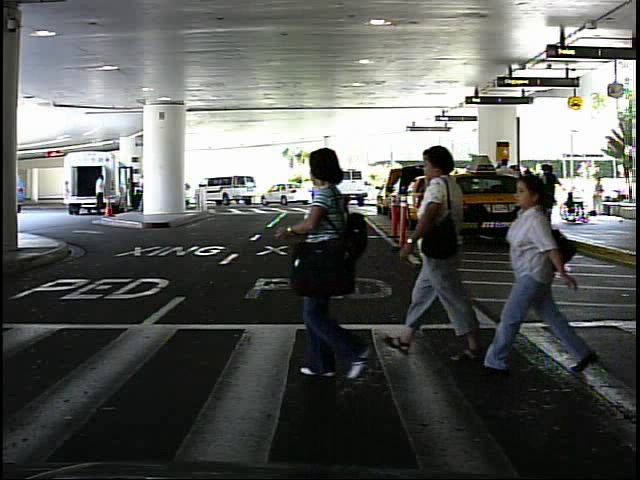person: (290, 138, 388, 386), (472, 172, 585, 381), (387, 142, 488, 363), (91, 170, 109, 220), (588, 172, 607, 218)
